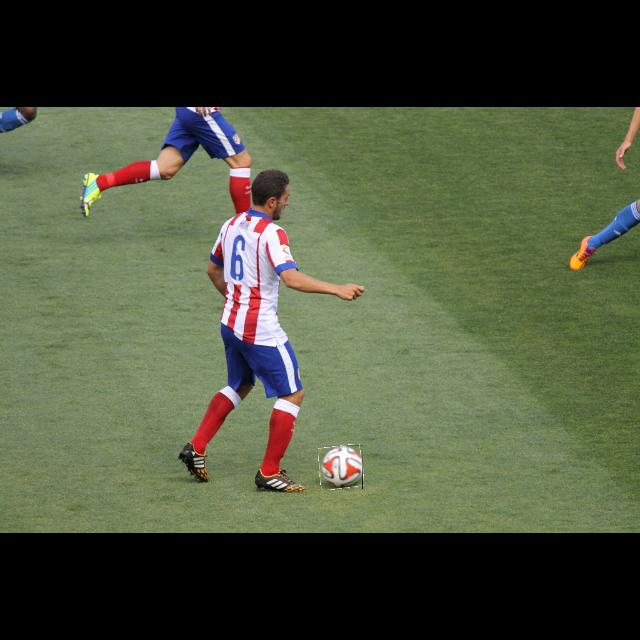Football: (319, 445, 363, 489)
